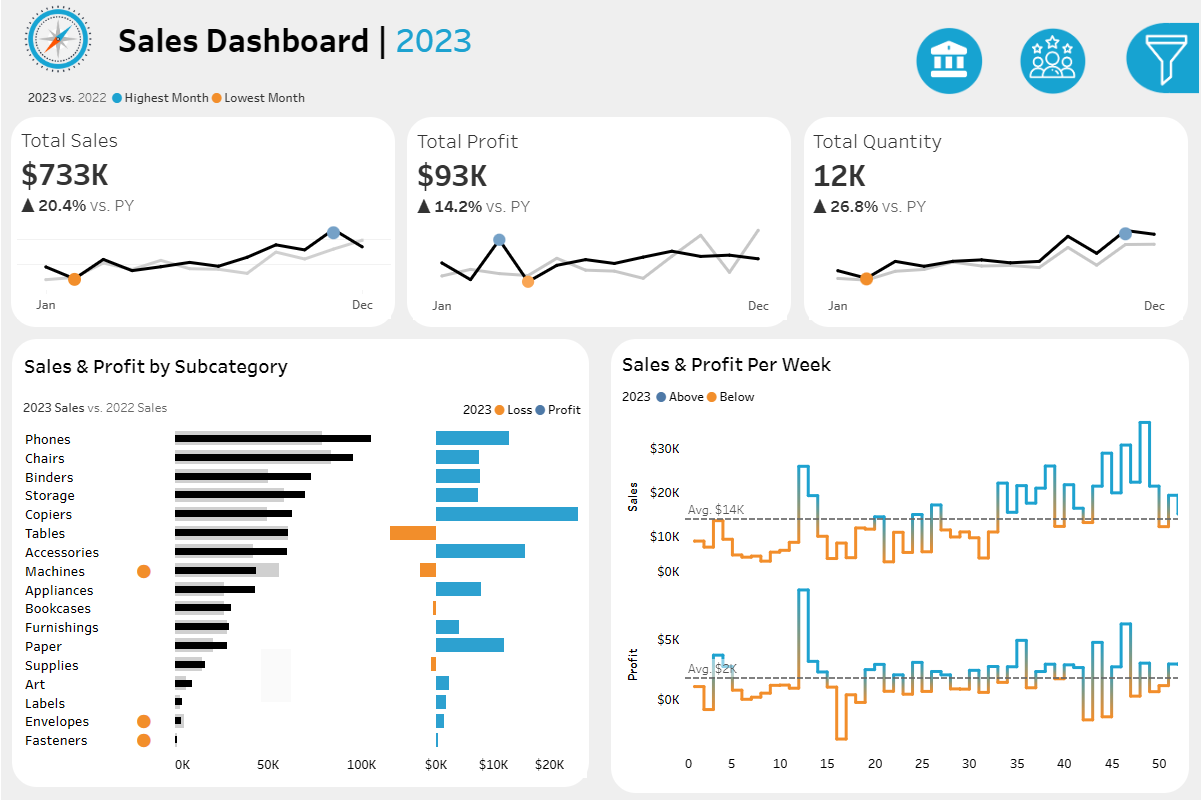

This screenshot's page, from the dashboard's own definition file:
{"tool":"tableau","page":{"name":"Sales Dashboard","canvas":[1200,800],"ordinal":1},"visuals":[{"type":"image","param":"Image/Icon - Logo.png","box":[0,0,113,78]},{"type":"text","box":[113,0,771,78]},{"type":"blank","box":[911,3,285,107]},{"type":"dashboard-object","box":[894,17,107,83]},{"type":"dashboard-object","box":[1001,17,106,83]},{"type":"worksheet","title":"KPIs Legends","mark":"Automatic","box":[0,83,1200,29]},{"type":"worksheet","title":"Round Box (3)","mark":"Automatic","box":[0,107,400,231]},{"type":"worksheet","title":"Round Box (4)","mark":"Automatic","box":[396,107,400,231]},{"type":"worksheet","title":"Round Box (5)","mark":"Automatic","box":[798,107,400,231]},{"type":"text","box":[911,110,285,51]},{"type":"worksheet","title":"KPI Sales","mark":"Automatic","rows":["Calculation_5891271328686706692"],"cols":["Order Date"],"box":[11,115,384,209]},{"type":"worksheet","title":"KPI Profit","mark":"Line","rows":["Calculation_5891271328802459657"],"cols":["Order Date"],"box":[407,116,384,209]},{"type":"worksheet","title":"KPI Quantity","mark":"Automatic","rows":["Calculation_796011300693708803"],"cols":["Order Date"],"box":[803,116,384,209]},{"type":"parameter","param":"[Parameters].[Parameter 1]","box":[911,161,285,82]},{"type":"blank","box":[911,243,285,46]},{"type":"text","box":[911,289,285,33]},{"type":"filter","title":"KPI Profit","param":"[federated.1up1zpl0vrkalm1729igt1i9uk4w].[none:Category:nk]","box":[911,322,285,61]},{"type":"text","box":[14,337,576,56]},{"type":"worksheet","title":"Round Box (2)","mark":"Automatic","box":[1,339,599,460]},{"type":"text","box":[612,342,569,41]},{"type":"text","box":[612,383,569,29]},{"type":"filter","title":"KPI Profit","param":"[federated.1up1zpl0vrkalm1729igt1i9uk4w].[none:Sub-Category:nk]","box":[911,383,285,61]},{"type":"worksheet","title":"Legend Subcategory","mark":"Automatic","box":[14,393,208,32]},{"type":"text","box":[222,393,368,32]},{"type":"worksheet","title":"Weekly Trends","mark":"Automatic","rows":["Calculation_5891271328670392321","Calculation_5891271328802004999"],"cols":["Order Date"],"box":[612,412,569,370]},{"type":"worksheet","title":"Subcategory Comparison","mark":"Bar","rows":["Sub-Category","Calculation_1864490312549482496"],"cols":["Calculation_5891271328670773250","Calculation_5891271328670392321","Calculation_5891271328802004999"],"box":[14,425,576,356.9]},{"type":"blank","box":[911,444,285,43]},{"type":"text","box":[911,487,285,33]},{"type":"filter","title":"KPI Profit","param":"[federated.1up1zpl0vrkalm1729igt1i9uk4w].[none:State:nk]","box":[911,520,285,61]},{"type":"filter","title":"KPI Profit","param":"[federated.1up1zpl0vrkalm1729igt1i9uk4w].[none:City:nk]","box":[911,581,285,61]},{"type":"filter","title":"KPI Profit","param":"[federated.1up1zpl0vrkalm1729igt1i9uk4w].[none:Region:nk]","box":[911,642,285,61]}]}

Visuals, with their boxes in screenshot pixels (x1, y1, x2, y2), scaled from the page's 1200x800 canvas onto the 1202x800 screenshot:
image: [0, 0, 113, 78]
text: [113, 0, 885, 78]
blank: [913, 3, 1198, 110]
dashboard-object: [895, 17, 1003, 100]
dashboard-object: [1003, 17, 1109, 100]
"KPIs Legends" worksheet: [0, 83, 1201, 112]
"Round Box (3)" worksheet: [0, 107, 401, 338]
"Round Box (4)" worksheet: [397, 107, 797, 338]
"Round Box (5)" worksheet: [799, 107, 1200, 338]
text: [913, 110, 1198, 161]
"KPI Sales" worksheet: [11, 115, 396, 324]
"KPI Profit" worksheet (Line marks): [408, 116, 792, 325]
"KPI Quantity" worksheet: [804, 116, 1189, 325]
parameter: [913, 161, 1198, 243]
blank: [913, 243, 1198, 289]
text: [913, 289, 1198, 322]
"KPI Profit" filter: [913, 322, 1198, 383]
text: [14, 337, 591, 393]
"Round Box (2)" worksheet: [1, 339, 601, 799]
text: [613, 342, 1183, 383]
text: [613, 383, 1183, 412]
"KPI Profit" filter: [913, 383, 1198, 444]
"Legend Subcategory" worksheet: [14, 393, 222, 425]
text: [222, 393, 591, 425]
"Weekly Trends" worksheet: [613, 412, 1183, 782]
"Subcategory Comparison" worksheet (Bar marks): [14, 425, 591, 782]
blank: [913, 444, 1198, 487]
text: [913, 487, 1198, 520]
"KPI Profit" filter: [913, 520, 1198, 581]
"KPI Profit" filter: [913, 581, 1198, 642]
"KPI Profit" filter: [913, 642, 1198, 703]
